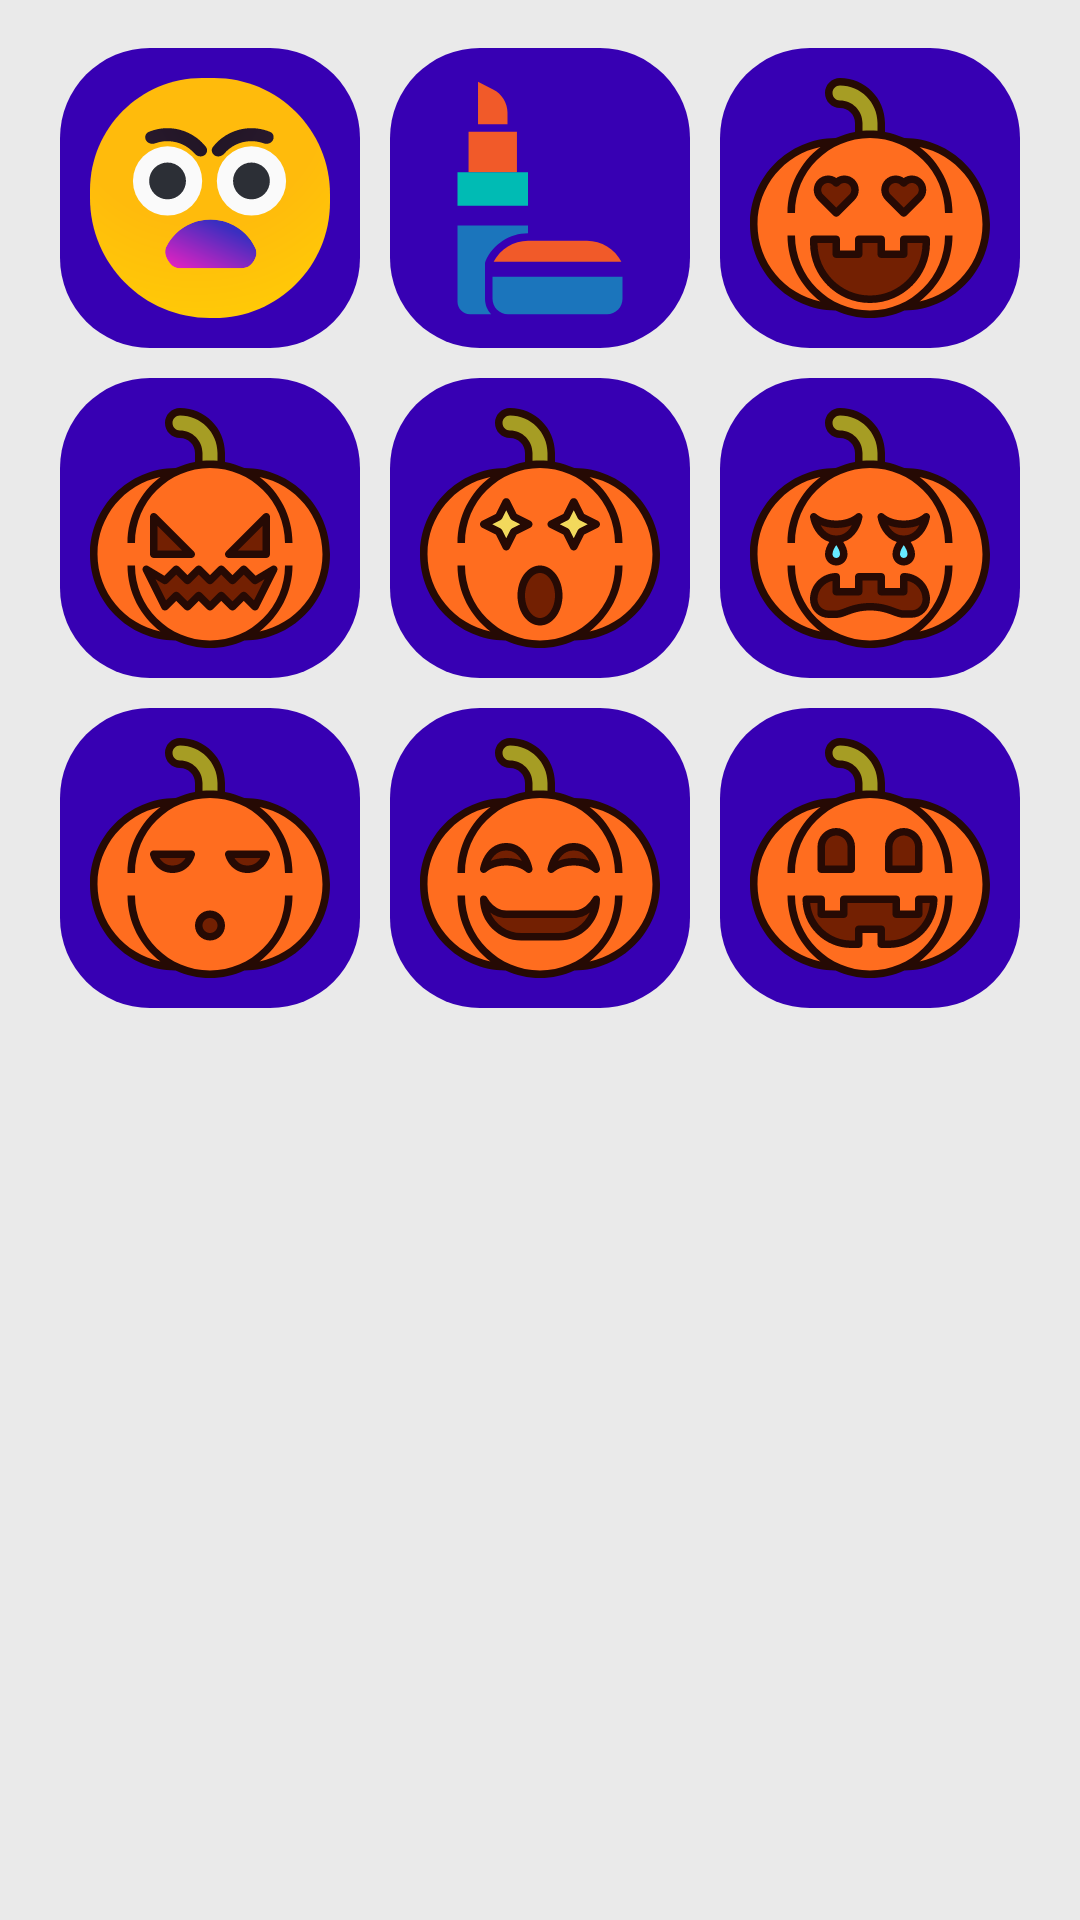

Where icons sit on this 1080w x 1920h app screen, as region(x1, y1, x2, y2):
angry: region(60, 48, 360, 348)
beauty: region(390, 48, 690, 348)
look down: region(60, 708, 360, 1008)
